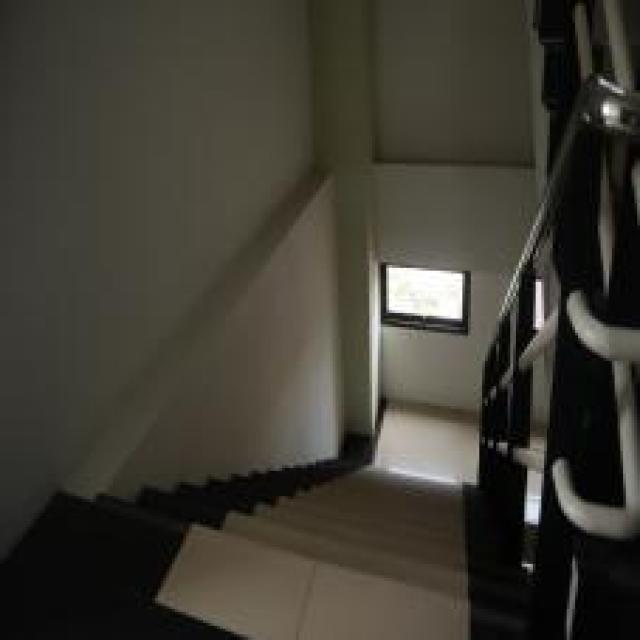downstair: (221, 424, 475, 638)
